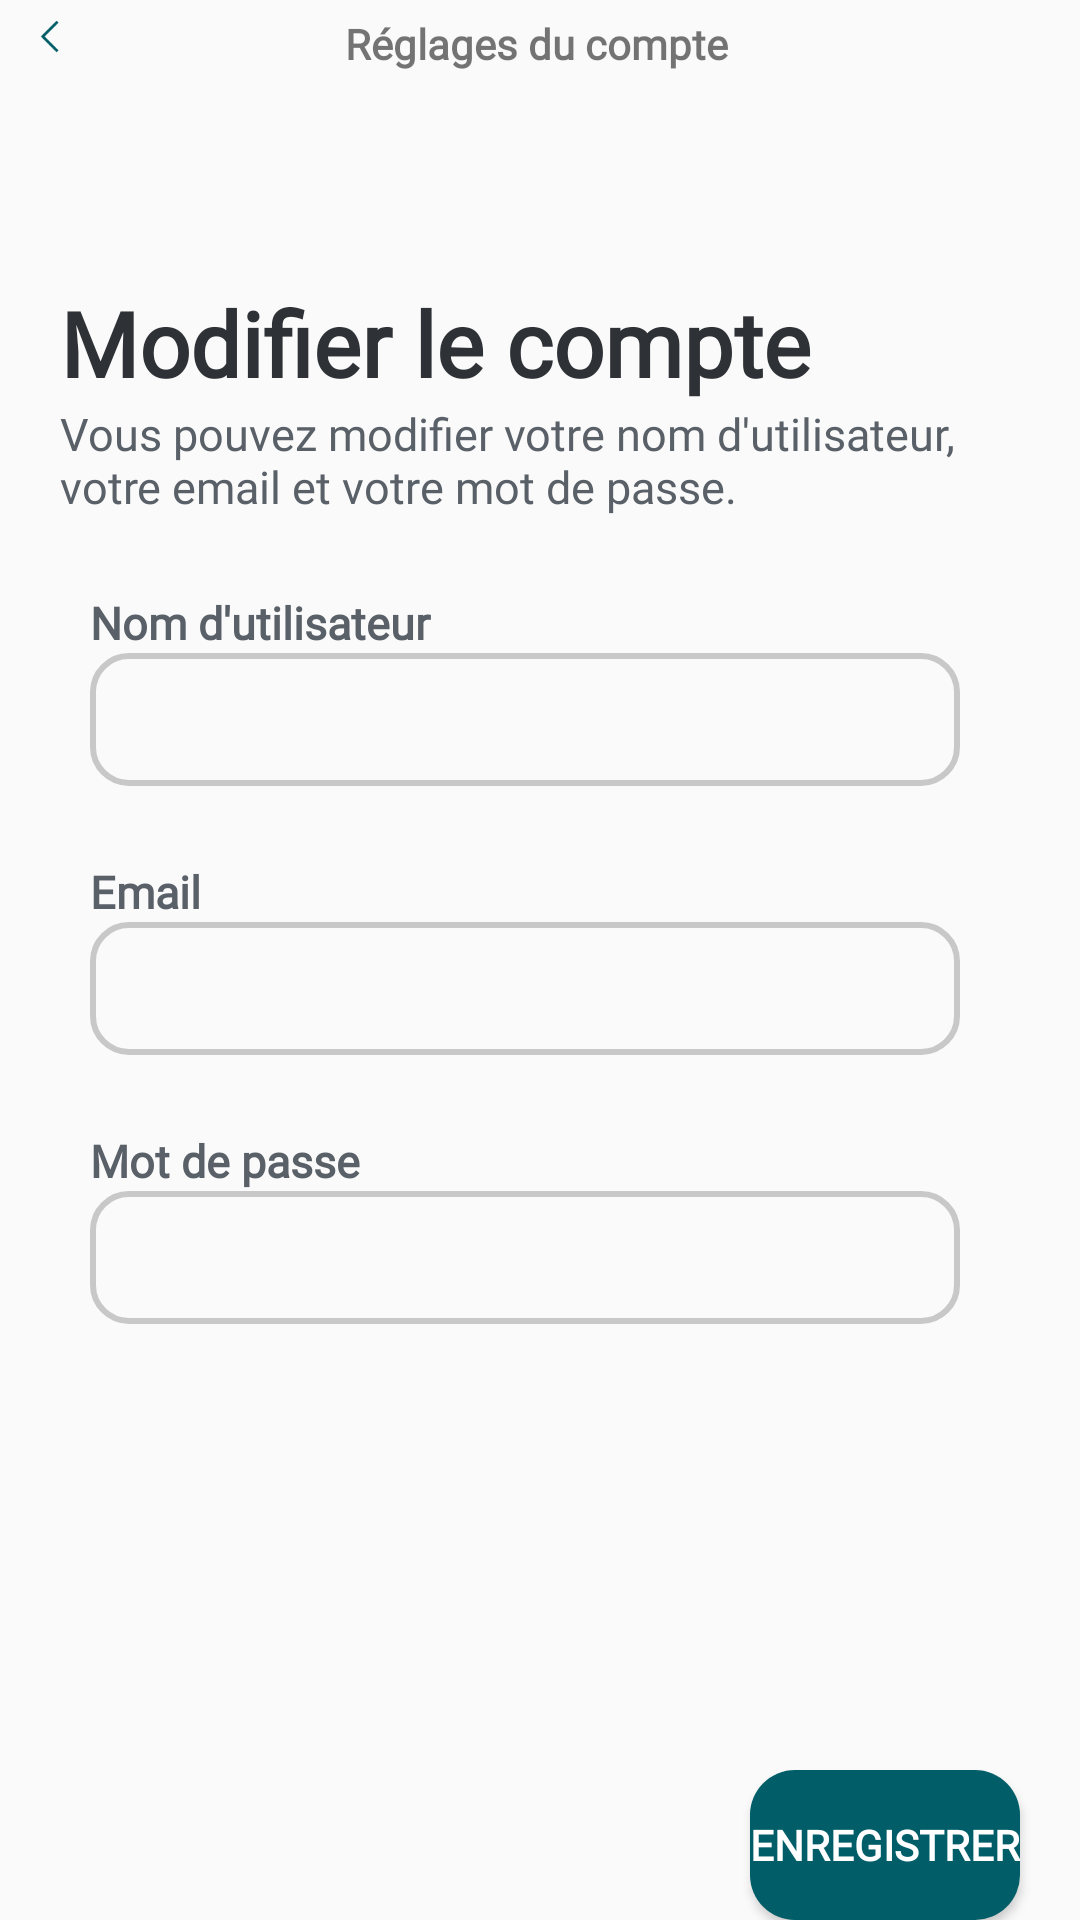

Icons on this 1080px x 1920px Android screen, each with its box as {"left": x1, "top": y1, "right": x2, "bottom": y2}:
back: {"left": 41, "top": 21, "right": 59, "bottom": 52}
